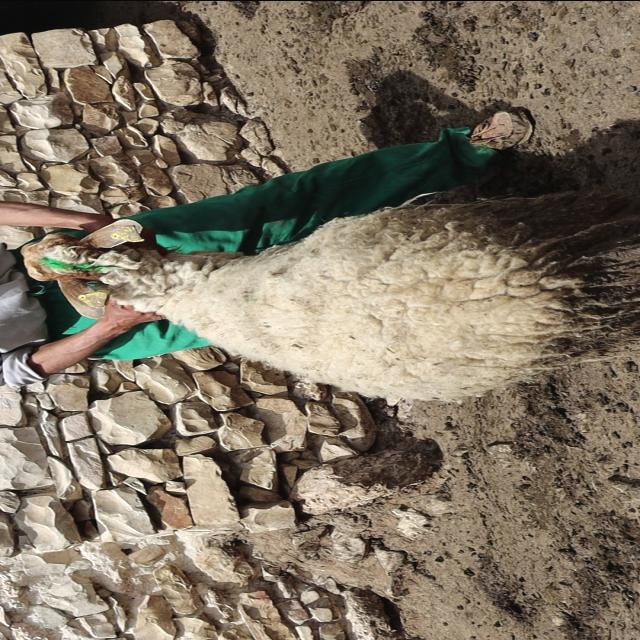Score_2: (23, 192, 639, 399)
